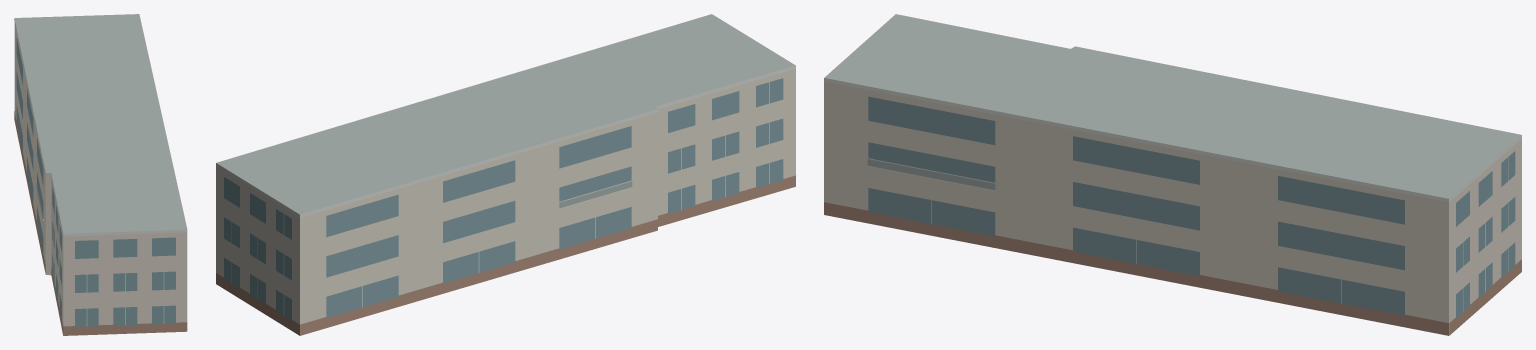
Rendered from survey-upis-32758309.glb.
3 views of the same model, side by side, from view 1: azimuth 30°, elevation 25°; view 2: azimuth 150°, elevation 25°; view 3: azimuth 270°, elevation 25° (orthographic). The views are drawn at different scales.
Parts seen in each view (by area): view 1: survey-upis-32758309.tmp; view 2: survey-upis-32758309.tmp; view 3: survey-upis-32758309.tmp.
Boxes of the visible parts, x1,y1,x2,y2 form: survey-upis-32758309.tmp: [14, 14, 187, 335]; survey-upis-32758309.tmp: [216, 14, 795, 335]; survey-upis-32758309.tmp: [824, 14, 1521, 335].
Bounding box in the file's own units: 26.47 × 9.15 × 42.22.
